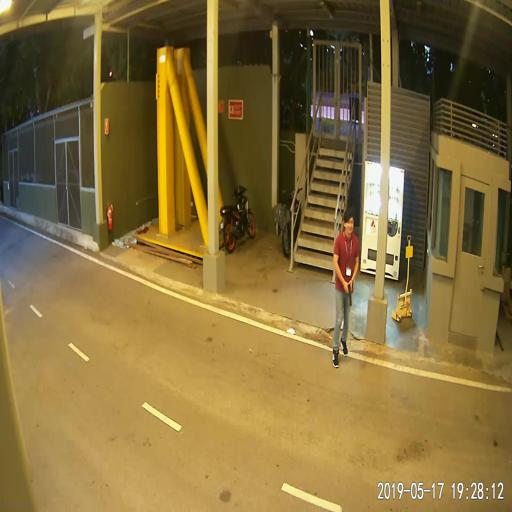pistol: (343, 283, 352, 306)
